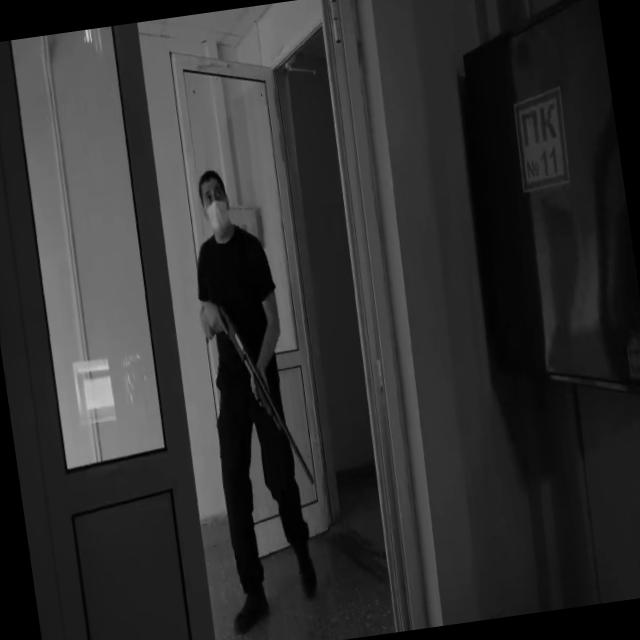gun: (216, 292, 316, 497)
person with a gun: (170, 160, 334, 636)
